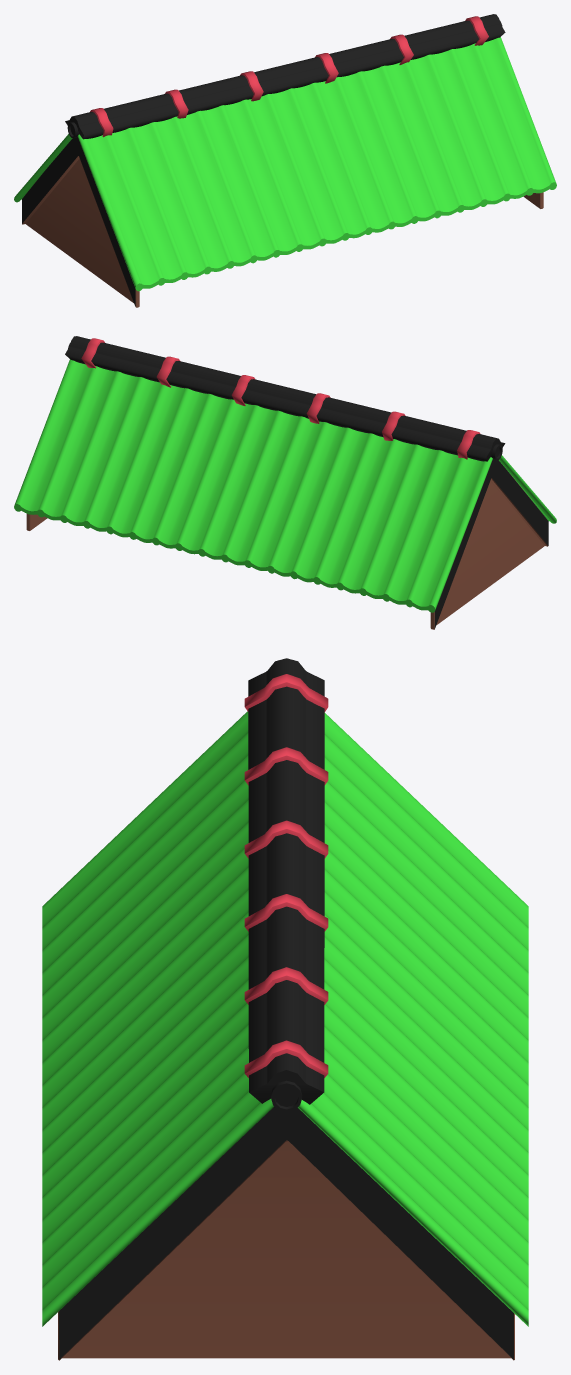
File: Japanese_Roof.fbx
3 views of the same model, one above another, from view 1: azimuth 30°, elevation 25°; view 2: azimuth 150°, elevation 25°; view 3: azimuth 270°, elevation 25° (orthographic). The views are drawn at different scales.
Parts seen in each view (by area): view 1: Jap_Roof_Pipe; view 2: Jap_Roof_Pipe; view 3: Jap_Roof_Pipe.
Boxes of the visible parts, <box> form: Jap_Roof_Pipe: <box>14,14,556,307</box>; Jap_Roof_Pipe: <box>14,336,556,629</box>; Jap_Roof_Pipe: <box>42,658,528,1360</box>.
Size of the model in its own units: 8.05 by 2.74 by 3.97.
